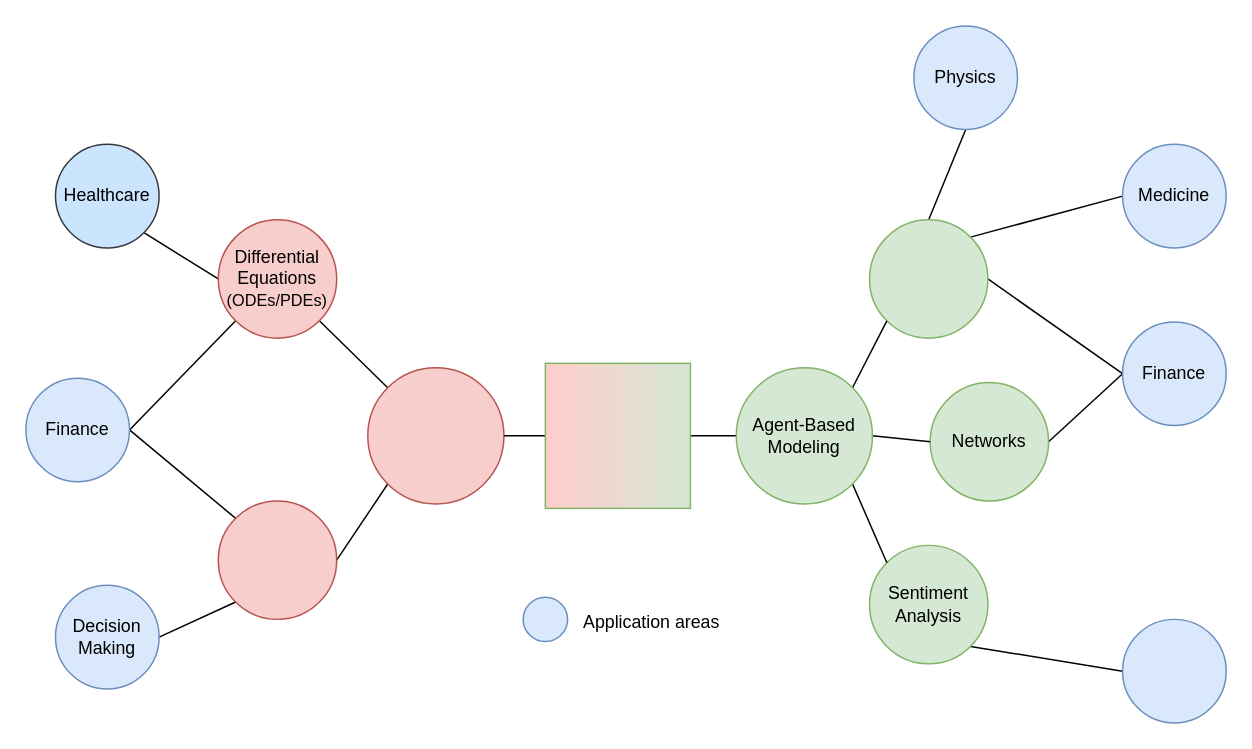
Some shapes in this 1252 by 749 pixel diagram are drawn without their labels. The box of each missing label's shape, as (x1, y1, x2, y2) in pixels:
Dynamical Systems & Artificial Intelligence Lab: (544, 362, 690, 508)
Equation-Based Modeling: (366, 366, 504, 504)
Operations Research: (217, 500, 337, 619)
Political Science: (1121, 618, 1226, 723)
Time Series: (868, 218, 988, 338)
